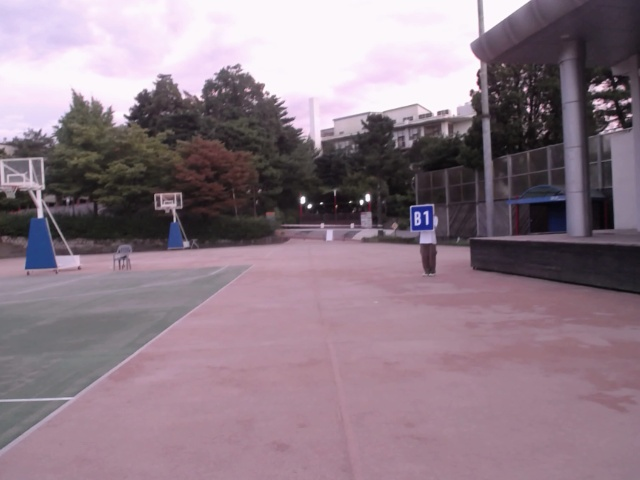delivery_b1: (410, 204, 434, 231)
